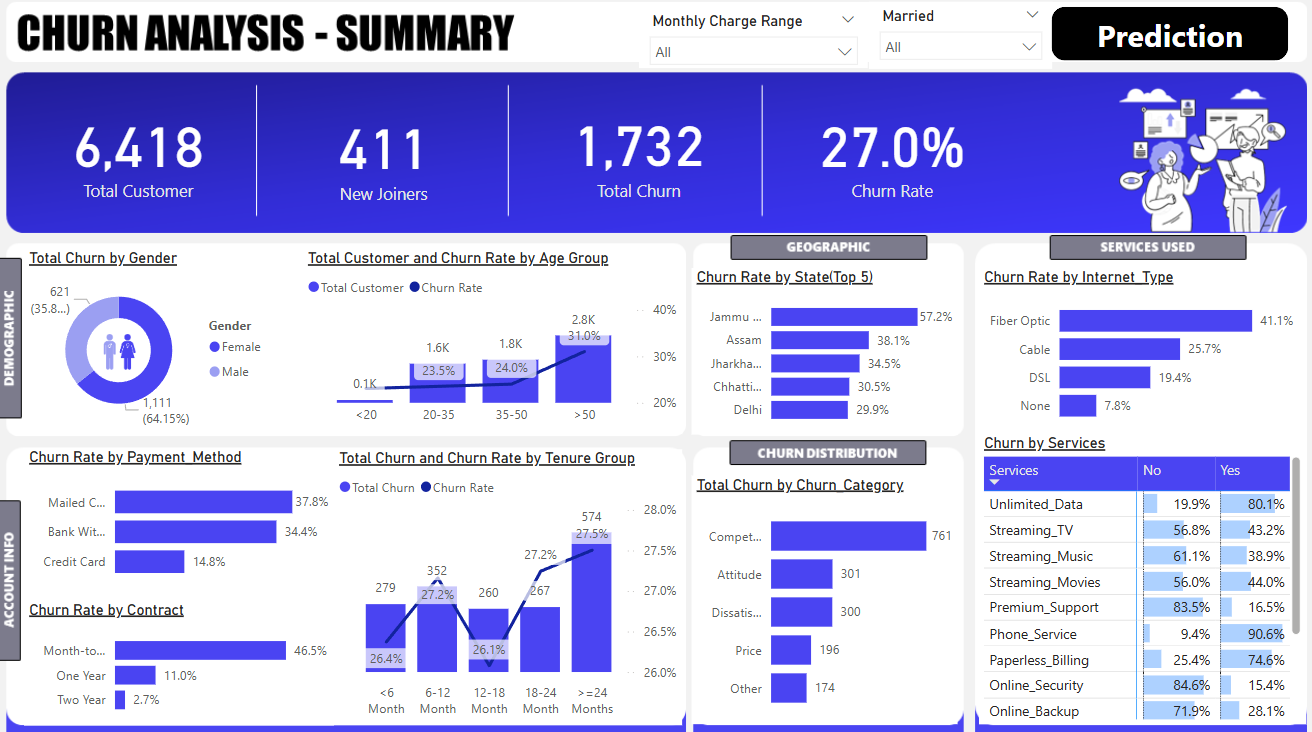

What the dashboard file says about the page in this screenshot:
{"tool":"powerbi","page":{"name":"Summary","canvas":[1280,720],"ordinal":0},"visuals":[{"type":"card","fields":{"Values":["tbl_measures.Total Customer"]},"box":[28.8,87.8,220.9,129],"z":0},{"type":"card","fields":{"Values":["tbl_measures.New Joiners"]},"box":[273.1,94.7,207.2,122.1],"z":1000},{"type":"card","fields":{"Values":["tbl_measures.Total Churn"]},"box":[513.2,82.3,219.6,140],"z":2000},{"type":"card","fields":{"Values":["tbl_measures.Churn Rate"]},"box":[769.8,97.4,194.9,109.8],"z":3000},{"type":"donutChart","fields":{"Category":["prod_Churn.Gender"],"Y":["tbl_measures.Total Churn"]},"box":[28.8,247,244.3,178.4],"z":4000},{"type":"lineStackedColumnComboChart","fields":{"Category":["mapping_AgeGrp.Age Group"],"Y":["tbl_measures.Total Customer"],"Y2":["tbl_measures.Churn Rate"]},"box":[297.8,247,366.4,178.4],"z":5000},{"type":"clusteredBarChart","fields":{"Category":["prod_Churn.Payment_Method"],"Y":["tbl_measures.Churn Rate"]},"box":[28.8,439.1,299.1,138.6],"z":6000},{"type":"clusteredBarChart","fields":{"Category":["prod_Churn.Contract"],"Y":["tbl_measures.Churn Rate"]},"box":[28.8,585.9,299.1,120.8],"z":7000},{"type":"lineStackedColumnComboChart","fields":{"Category":["mapping_TenureGrp.Tenure Group"],"Y":["tbl_measures.Total Churn"],"Y2":["tbl_measures.Churn Rate"]},"box":[328,440.5,336.2,266.2],"z":8000},{"type":"clusteredBarChart","title":"Churn Rate by State(Top 5)","fields":{"Category":["prod_Churn.State"],"Y":["tbl_measures.Churn Rate"]},"box":[673.8,264.8,256.6,160.5],"z":9000},{"type":"clusteredBarChart","fields":{"Category":["prod_Churn.Churn_Category"],"Y":["tbl_measures.Total Churn"]},"box":[673.8,465.2,256.6,240.1],"z":10000},{"type":"clusteredBarChart","fields":{"Category":["prod_Churn.Internet_Type"],"Y":["tbl_measures.Churn Rate"]},"box":[950.9,264.8,315.6,160.5],"z":11000},{"type":"pivotTable","title":"Churn by Services","fields":{"Rows":["prod_Services.Services"],"Columns":["prod_Services.Status"],"Values":["Sum(prod_Services.Churn Status)"]},"box":[950.9,425.4,315.6,279.9],"z":12000},{"type":"slicer","fields":{"Values":["prod_Services.Monthly Charge Status"]},"box":[623,13.7,220.9,59],"z":13000},{"type":"image","box":[91.9,318.4,59,54.9],"z":14000},{"type":"slicer","fields":{"Values":["prod_Churn.Married"]},"box":[843.9,8.2,177,64.5],"z":15000},{"type":"shape","box":[1020.9,13.7,229.2,52.1],"z":16000}]}

Visuals, with their boxes in screenshot pixels (x1, y1, x2, y2), scaled from the page's 1280x720 canvas onto the 1312x732 screenshot:
card - tbl_measures.Total Customer: <box>30,89,256,220</box>
card - tbl_measures.New Joiners: <box>280,96,492,220</box>
card - tbl_measures.Total Churn: <box>526,84,751,226</box>
card - tbl_measures.Churn Rate: <box>789,99,989,211</box>
donutChart - prod_Churn.Gender x tbl_measures.Total Churn: <box>30,251,280,432</box>
lineStackedColumnComboChart - mapping_AgeGrp.Age Group x tbl_measures.Total Customer: <box>305,251,681,432</box>
clusteredBarChart - prod_Churn.Payment_Method x tbl_measures.Churn Rate: <box>30,446,336,587</box>
clusteredBarChart - prod_Churn.Contract x tbl_measures.Churn Rate: <box>30,596,336,718</box>
lineStackedColumnComboChart - mapping_TenureGrp.Tenure Group x tbl_measures.Total Churn: <box>336,448,681,718</box>
"Churn Rate by State(Top 5)" clusteredBarChart: <box>691,269,954,432</box>
clusteredBarChart - prod_Churn.Churn_Category x tbl_measures.Total Churn: <box>691,473,954,717</box>
clusteredBarChart - prod_Churn.Internet_Type x tbl_measures.Churn Rate: <box>975,269,1298,432</box>
"Churn by Services" pivotTable: <box>975,432,1298,717</box>
slicer - prod_Services.Monthly Charge Status: <box>639,14,865,74</box>
image: <box>94,324,155,380</box>
slicer - prod_Churn.Married: <box>865,8,1046,74</box>
shape: <box>1046,14,1281,67</box>
